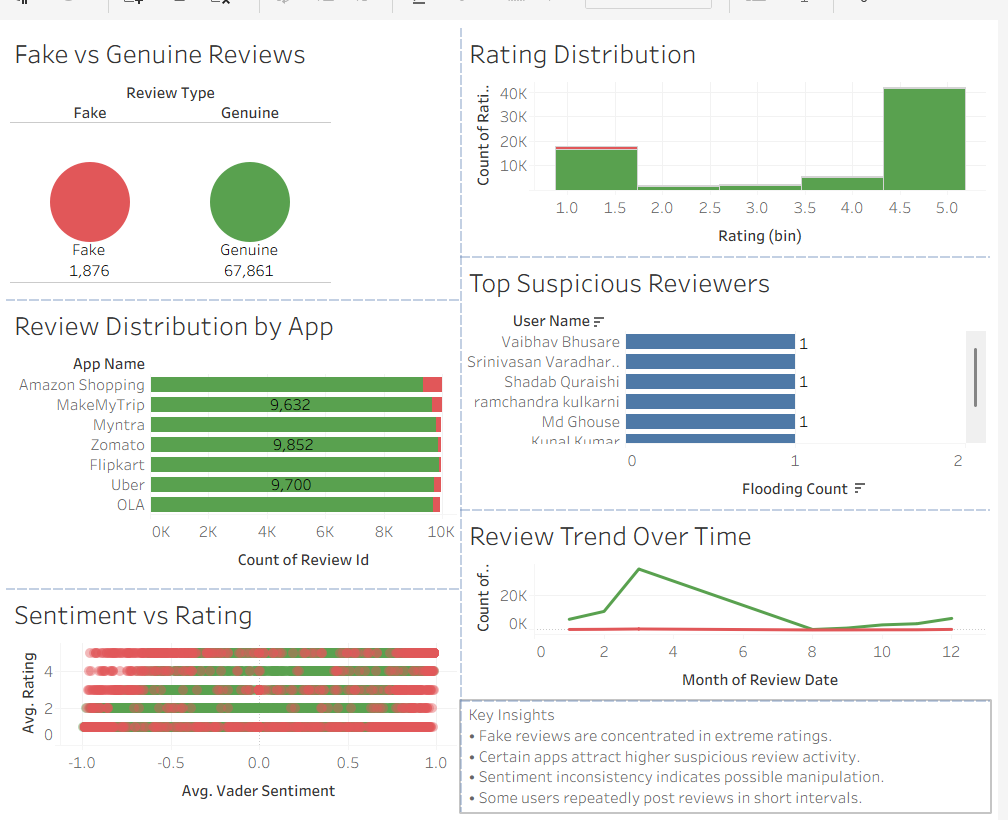

The dashboard page shown, as its layout file describes it:
{"tool":"tableau","page":{"name":"Dashboard 1","canvas":[1000,800],"ordinal":0},"visuals":[{"type":"worksheet","title":"Fake vs Genuine Reviews","mark":"Pie","cols":["Calculation_1117977017913344"],"box":[8,8,455,272]},{"type":"worksheet","title":"Rating Distribution","mark":"Automatic","rows":["rating"],"cols":["Rating (bin)"],"box":[463,8,529,229]},{"type":"worksheet","title":"Top Suspicious Reviewers","mark":"Bar","rows":["user_name"],"cols":["flooding_count"],"box":[463,237,529,253]},{"type":"worksheet","title":"Review Distribution by App","mark":"Bar","rows":["app_name"],"cols":["review_id"],"box":[8,280,455,289]},{"type":"worksheet","title":"Review Trend Over Time","mark":"Line","rows":["review_id"],"cols":["review_date"],"box":[463,490,529,190.5]},{"type":"worksheet","title":"Sentiment vs Rating","mark":"Circle","rows":["rating"],"cols":["vader_sentiment"],"box":[8,569,455,223]},{"type":"text","box":[463,680.5,529,111.5]}]}

Visuals, with their boxes on the page's 1000x800 design canvas (x1, y1, x2, y2). These are canvas units, not pixel positions in the 1008x820 screenshot, which may show the page scaled, cropped or inside an application window:
"Fake vs Genuine Reviews" worksheet (Pie marks): bbox=(8, 8, 463, 280)
"Rating Distribution" worksheet: bbox=(463, 8, 992, 237)
"Top Suspicious Reviewers" worksheet (Bar marks): bbox=(463, 237, 992, 490)
"Review Distribution by App" worksheet (Bar marks): bbox=(8, 280, 463, 569)
"Review Trend Over Time" worksheet (Line marks): bbox=(463, 490, 992, 680)
"Sentiment vs Rating" worksheet (Circle marks): bbox=(8, 569, 463, 792)
text: bbox=(463, 680, 992, 792)
